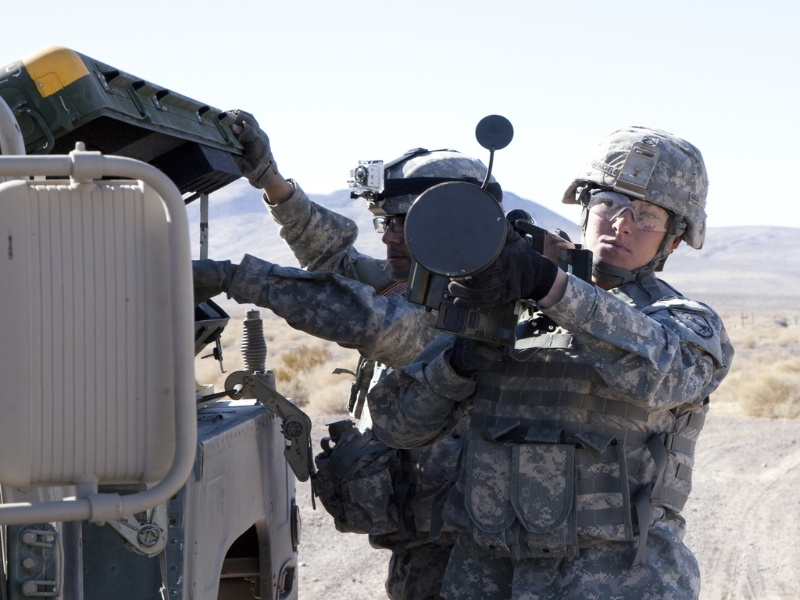Baret: (587, 126, 710, 218)
Gozluk: (582, 188, 689, 231)
